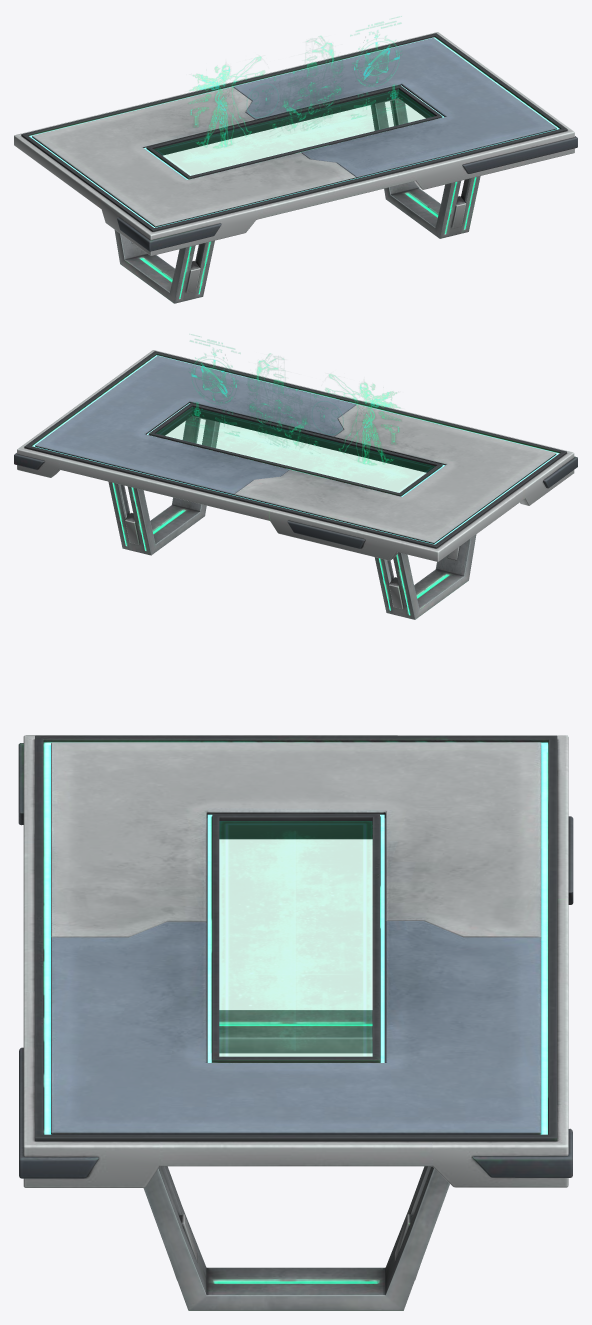
The model's file is lab_table.glb.
The picture shows the model from 3 angles, top to bottom: view 1: azimuth 30°, elevation 25°; view 2: azimuth 150°, elevation 25°; view 3: azimuth 270°, elevation 25°; orthographic projection. The views are drawn at different scales.
Parts seen in each view (by area): view 1: prop; view 2: prop; view 3: prop.
Part boxes in pixels (x1=…): prop: x1=14, y1=16, x2=577, y2=303; prop: x1=14, y1=334, x2=577, y2=619; prop: x1=18, y1=735, x2=573, y2=1310.
Size of the model in its own units: 2.65 by 1.22 by 1.49.
2 materials, 2 textured.
